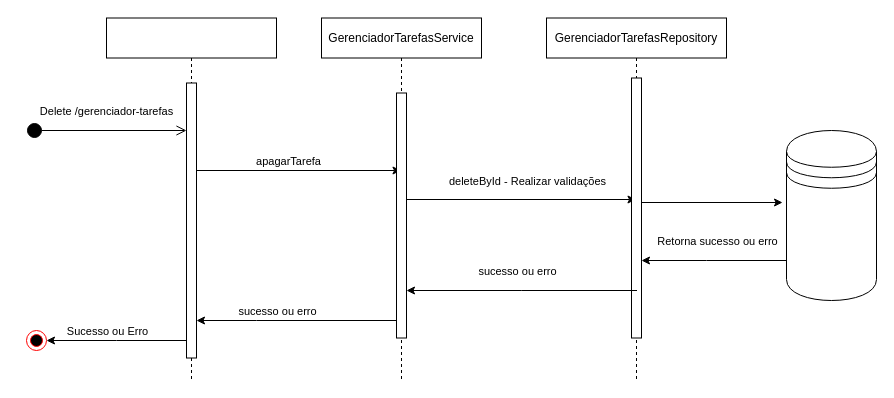
Some shapes in this 894 by 398 pixel diagram are drawn without their labels. Here are the shapes that lost their labels. From the top down, the box of each, then its label:
(106, 17, 276, 380): GerenciadorTarefasController
(786, 130, 876, 300): Postgres
